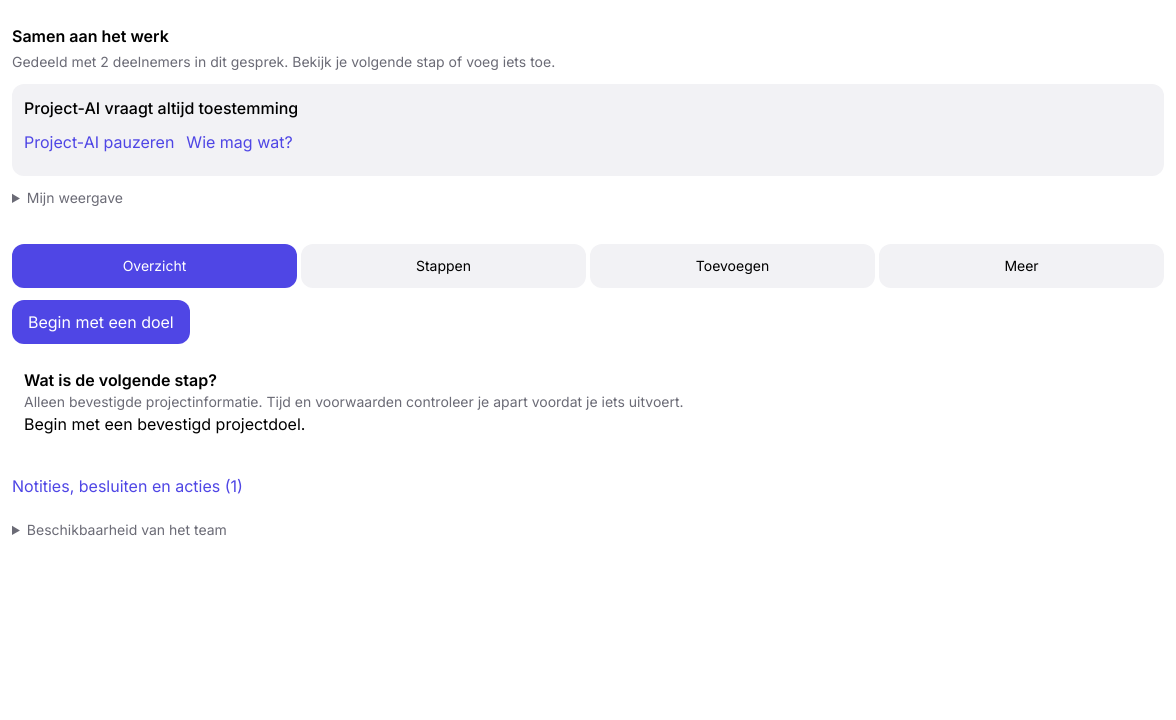
markeert wijzigingen pas na een expliciete bezoekmarkering
Click the button with aria-label "Meer projectmogelijkheden".
click(1022, 266)  # box left=879, top=244, right=1164, bottom=288
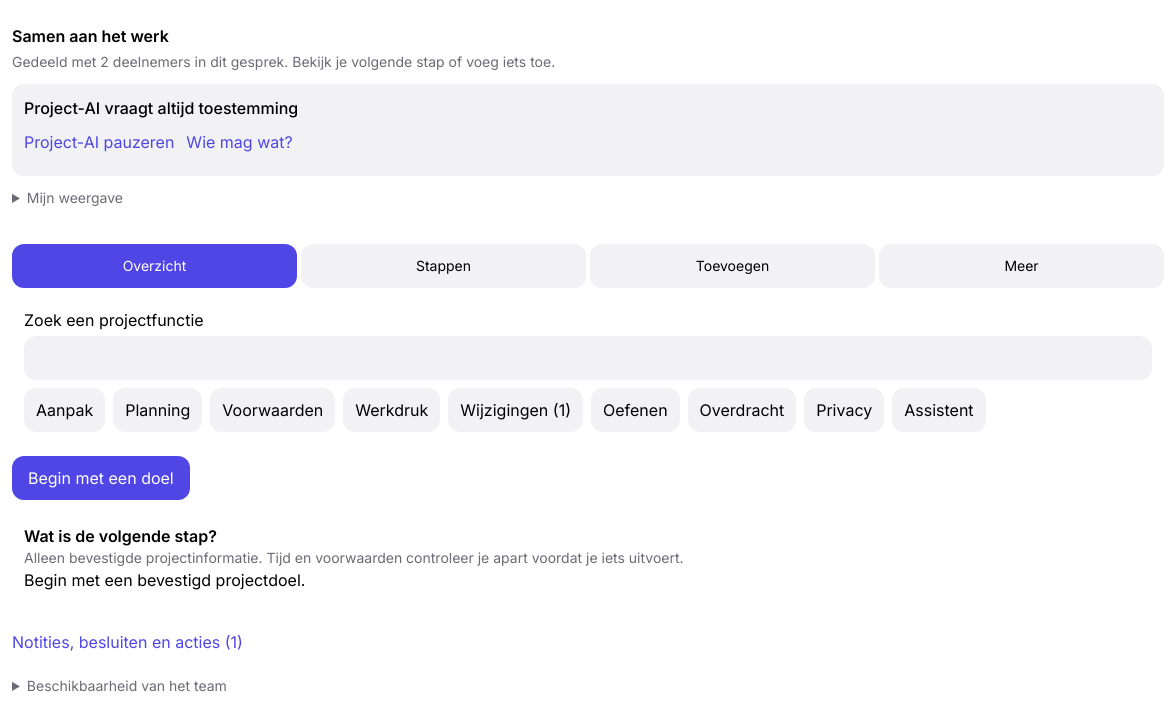
Click the button "Wijzigingen (1)".
click(516, 410)  # box left=448, top=388, right=583, bottom=432
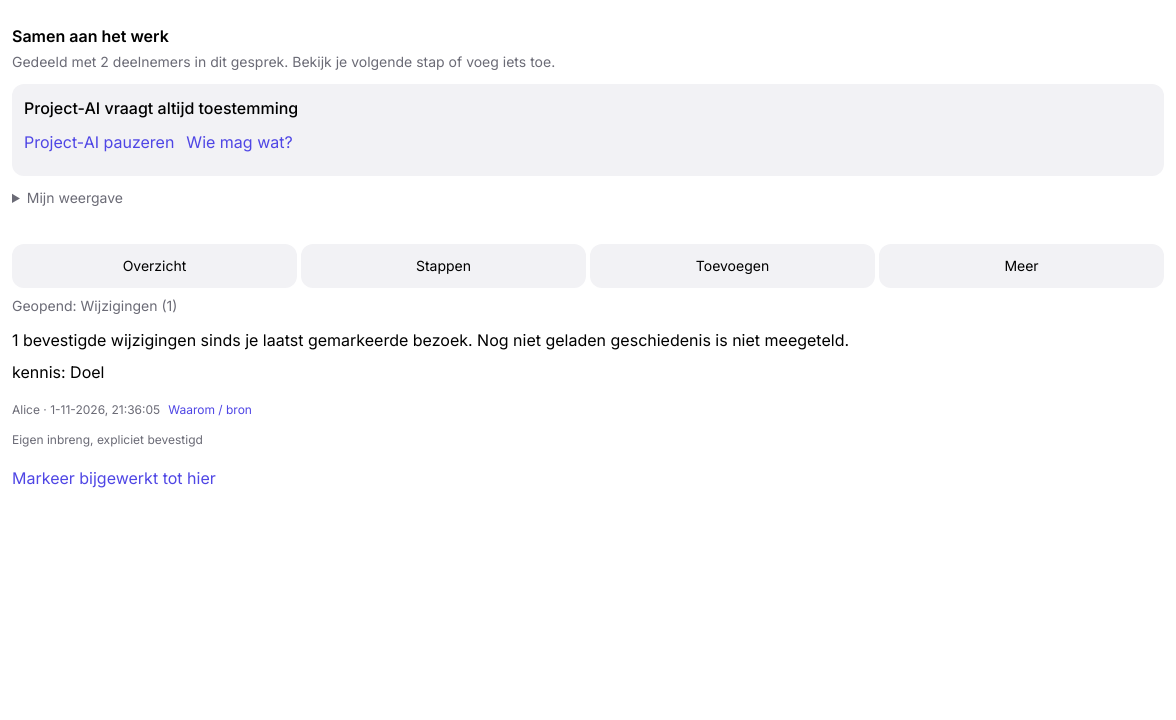
Click the button "Markeer bijgewerkt tot hier".
click(114, 478)  # box left=12, top=456, right=216, bottom=500
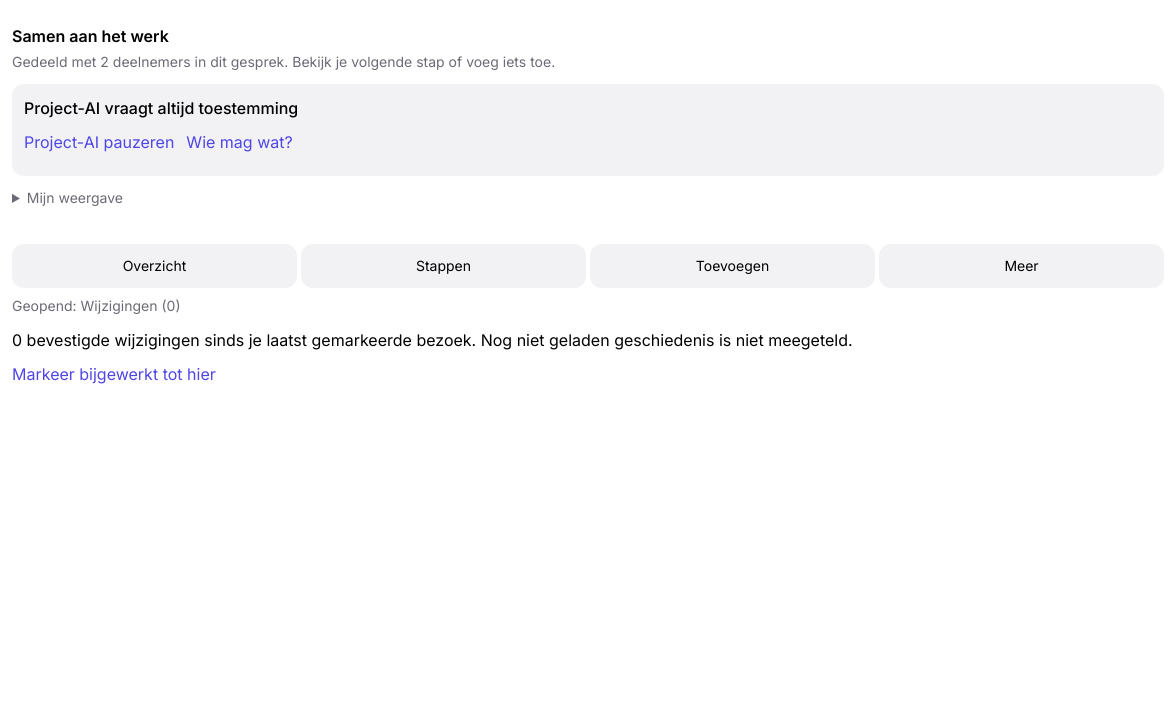
Expected: the text "Geopend: Wijzigingen (0)" is shown, left=12, top=297, right=180, bottom=314
